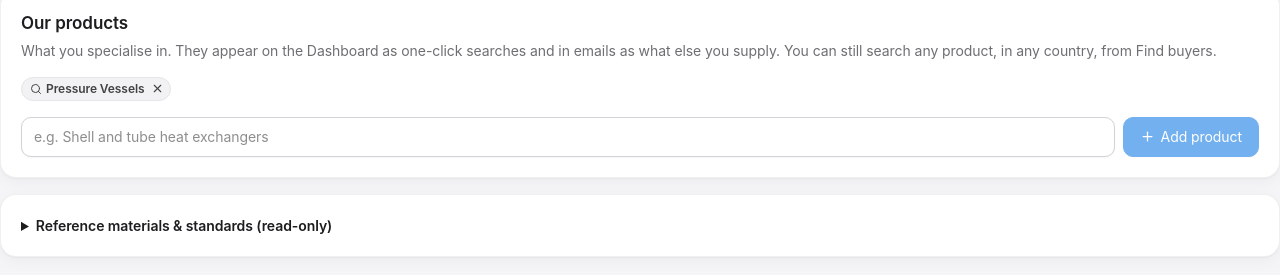
it: Editable Catalogue › adds a product using the existing server API without starting research or email
Type "Example Shell and Tube Exchangers" into the field named "Product name".
click(568, 136); type("Example Shell and Tube Exchangers")  # box [21,116,1115,156]
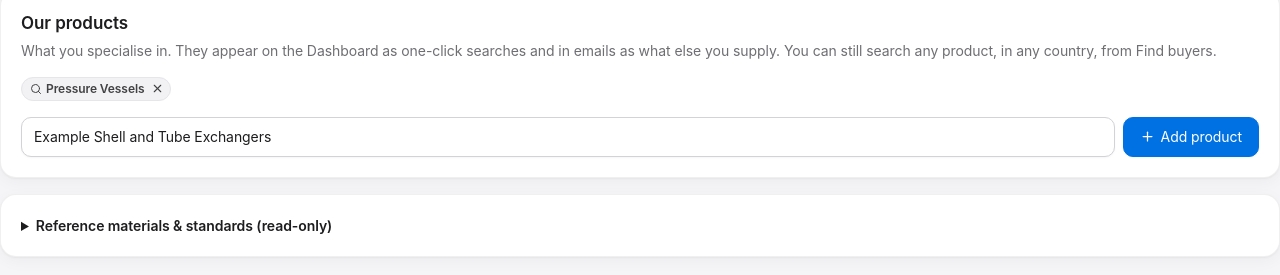
Click the button "Add product".
click(1191, 136)  # box [1123,116,1259,156]
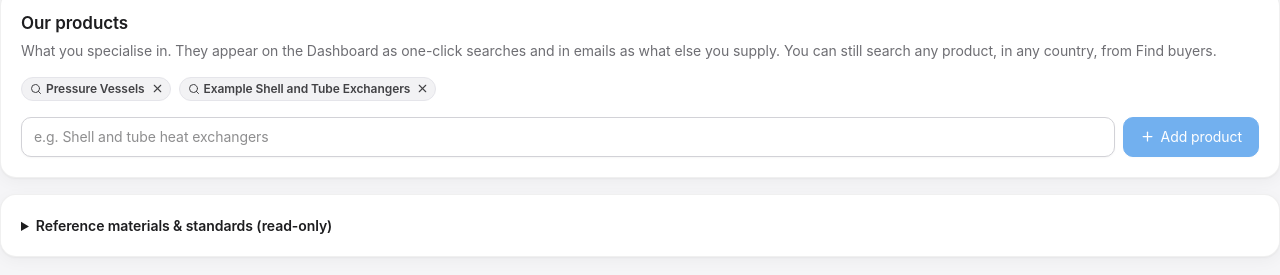
Result: the link "Example Shell and Tube Exchangers" is shown at [188,80,410,98]
Result: the field named "Product name" is empty at [21,116,1115,156]
